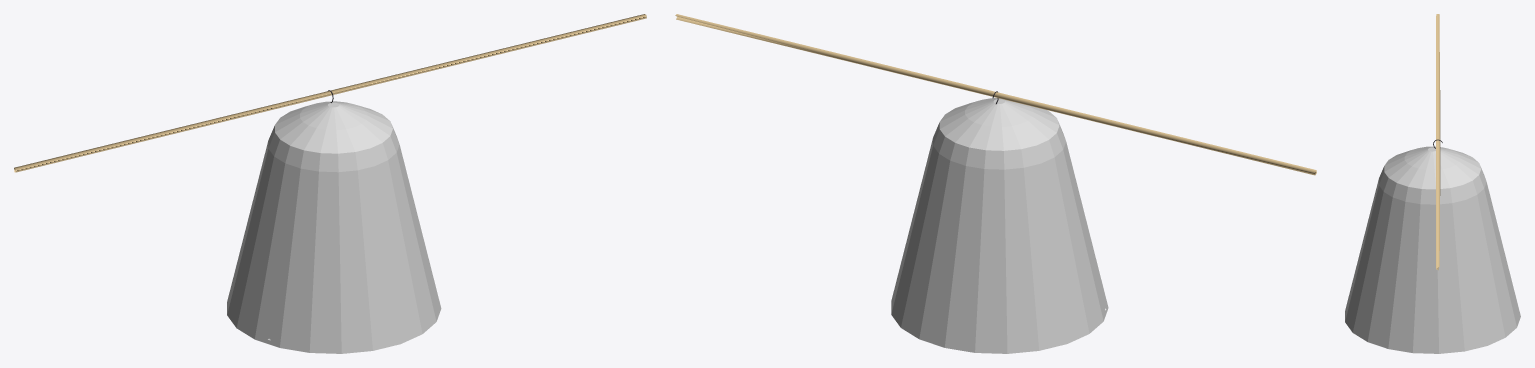
The model's file is firefirefire_dress_red.fbx.
3 renders of one model, left to right at view 1: azimuth 30°, elevation 25°; view 2: azimuth 150°, elevation 25°; view 3: azimuth 270°, elevation 25°, orthographic. The views are drawn at different scales.
Visible parts, largest first — view 1: contour2, stick hanger; view 2: contour2, stick hanger; view 3: contour2, stick hanger.
Part boxes in pixels (left/top/right/bottom): contour2: left=227, top=101, right=441, bottom=353; stick hanger: left=14, top=14, right=646, bottom=172; contour2: left=891, top=98, right=1108, bottom=353; stick hanger: left=675, top=14, right=1316, bottom=175; contour2: left=1345, top=146, right=1520, bottom=353; stick hanger: left=1436, top=14, right=1440, bottom=270.
Bounding box in the file's own units: 2687 × 886 × 790.
